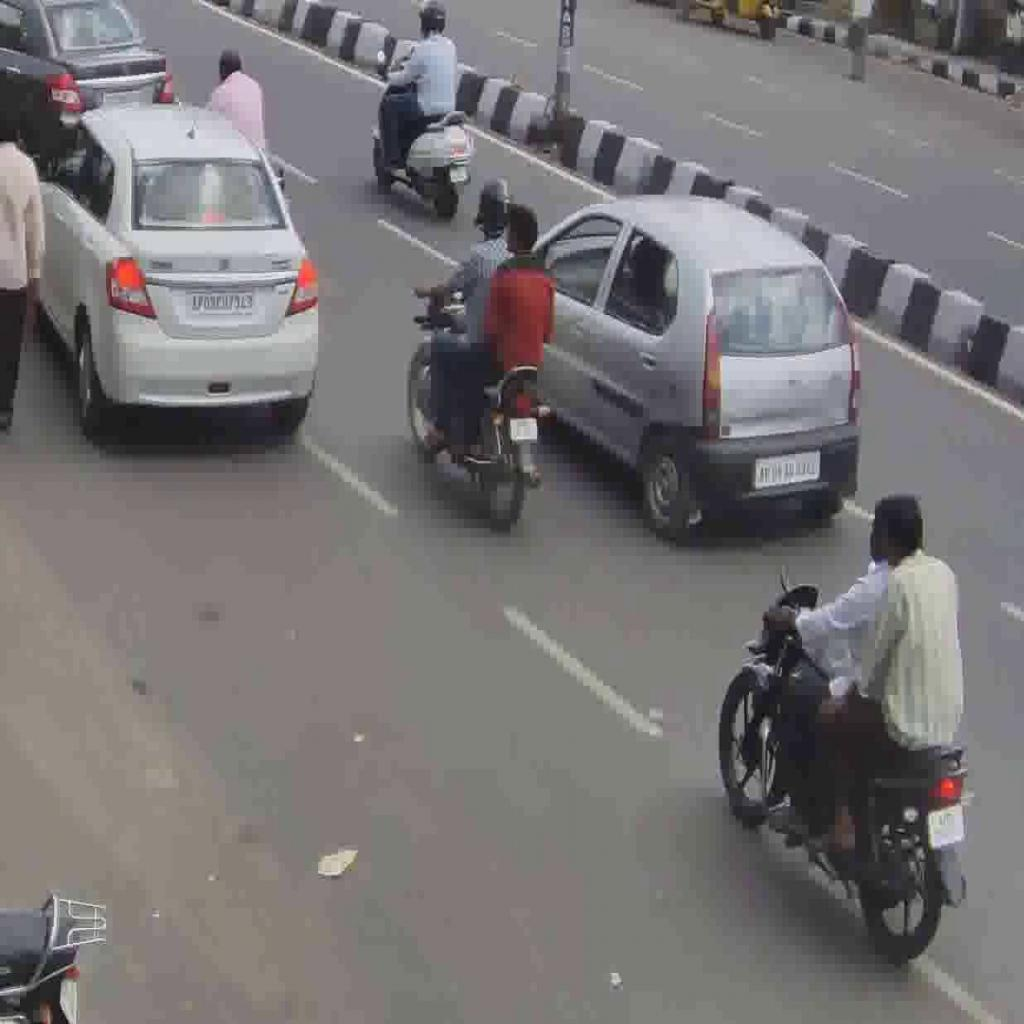bike: (716, 580, 977, 968), (405, 278, 552, 530), (370, 52, 477, 222)
helmet: (474, 176, 514, 239), (416, 0, 449, 36)
lisc: (927, 804, 964, 850), (510, 417, 537, 443), (450, 166, 467, 182)
no_helmet: (880, 493, 926, 568), (867, 496, 899, 566), (503, 201, 539, 255)
rider: (809, 493, 966, 859), (762, 496, 898, 839), (411, 176, 517, 451), (453, 201, 555, 460), (376, 0, 458, 170)
